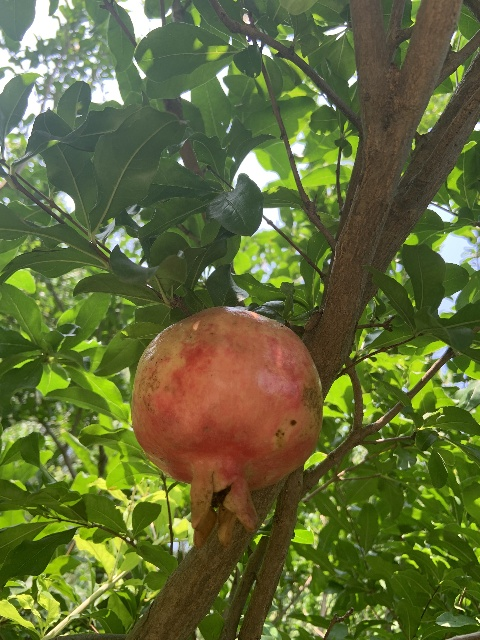ripe: (131, 308, 323, 549)
